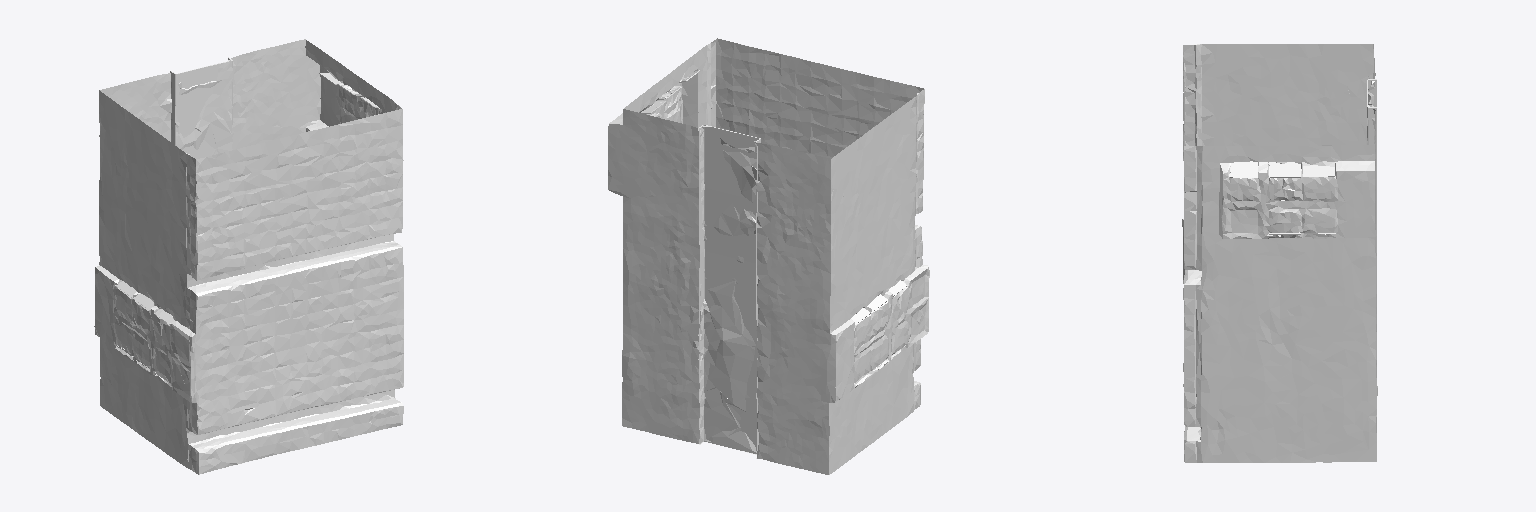
The picture shows the model from 3 angles: view 1: azimuth 30°, elevation 25°; view 2: azimuth 150°, elevation 25°; view 3: azimuth 270°, elevation 25°; orthographic projection.
Visible parts, largest first — view 1: Parte_2; view 2: Parte_2; view 3: Parte_2.
Boxes of the visible parts, x1=… form: Parte_2: x1=94, y1=39, x2=403, y2=474; Parte_2: x1=608, y1=38, x2=929, y2=474; Parte_2: x1=1182, y1=44, x2=1377, y2=462.
Bounding box in the file's own units: 2.53 × 3.33 × 1.86.